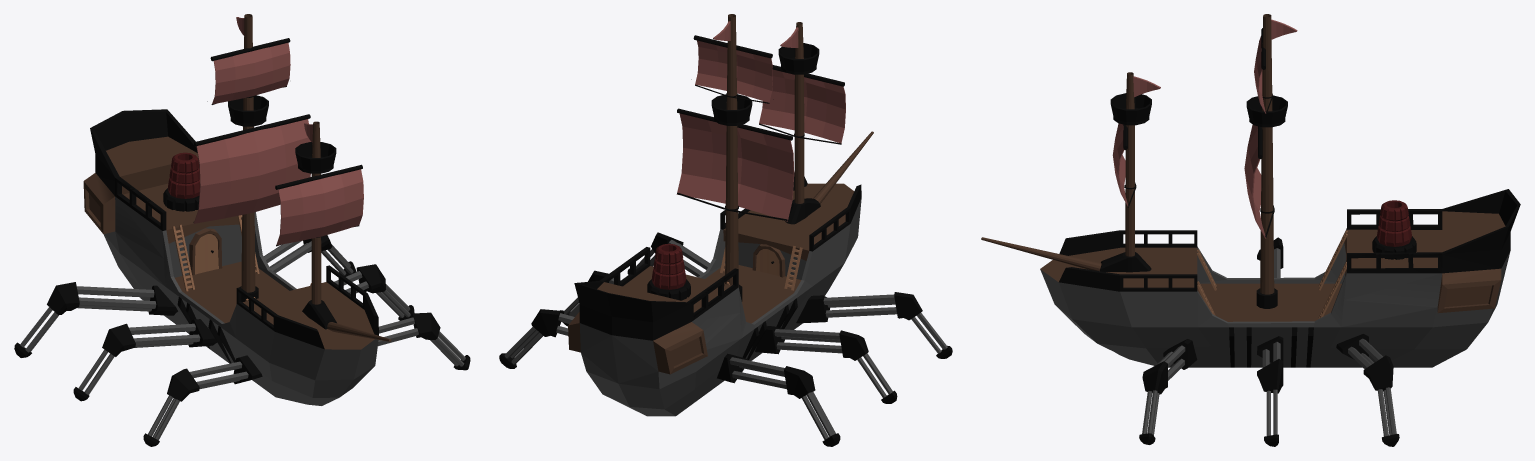
The model's file is Sombra.fbx.
3 renders of one model, left to right at view 1: azimuth 30°, elevation 25°; view 2: azimuth 150°, elevation 25°; view 3: azimuth 270°, elevation 25°, orthographic.
Parts seen in each view (by area): view 1: Cylinder.001, Cylinder.117, Cylinder.135, Cylinder.126, Cylinder.099, Cylinder.108, Cylinder.090; view 2: Cylinder.001, Cylinder.126, Cylinder.135, Cylinder.117, Cylinder.090, Cylinder.099; view 3: Cylinder.001, Cylinder.090, Cylinder.099, Cylinder.108.
Part boxes in pixels (x1=…): Cylinder.001: x1=83, y1=14, x2=391, y2=405; Cylinder.117: x1=14, y1=282, x2=177, y2=357; Cylinder.135: x1=73, y1=319, x2=217, y2=401; Cylinder.126: x1=143, y1=355, x2=262, y2=446; Cylinder.099: x1=378, y1=312, x2=470, y2=370; Cylinder.108: x1=334, y1=264, x2=414, y2=320; Cylinder.090: x1=264, y1=235, x2=356, y2=276; Cylinder.001: x1=568, y1=14, x2=873, y2=416; Cylinder.126: x1=796, y1=292, x2=952, y2=358; Cylinder.135: x1=755, y1=326, x2=897, y2=403; Cylinder.117: x1=717, y1=353, x2=840, y2=446; Cylinder.090: x1=499, y1=309, x2=574, y2=368; Cylinder.099: x1=627, y1=232, x2=709, y2=276; Cylinder.001: x1=981, y1=14, x2=1520, y2=367; Cylinder.090: x1=1336, y1=334, x2=1399, y2=446; Cylinder.099: x1=1139, y1=339, x2=1197, y2=444; Cylinder.108: x1=1257, y1=336, x2=1283, y2=446.
Bounding box in the file's own units: 734 × 721 × 1000.
